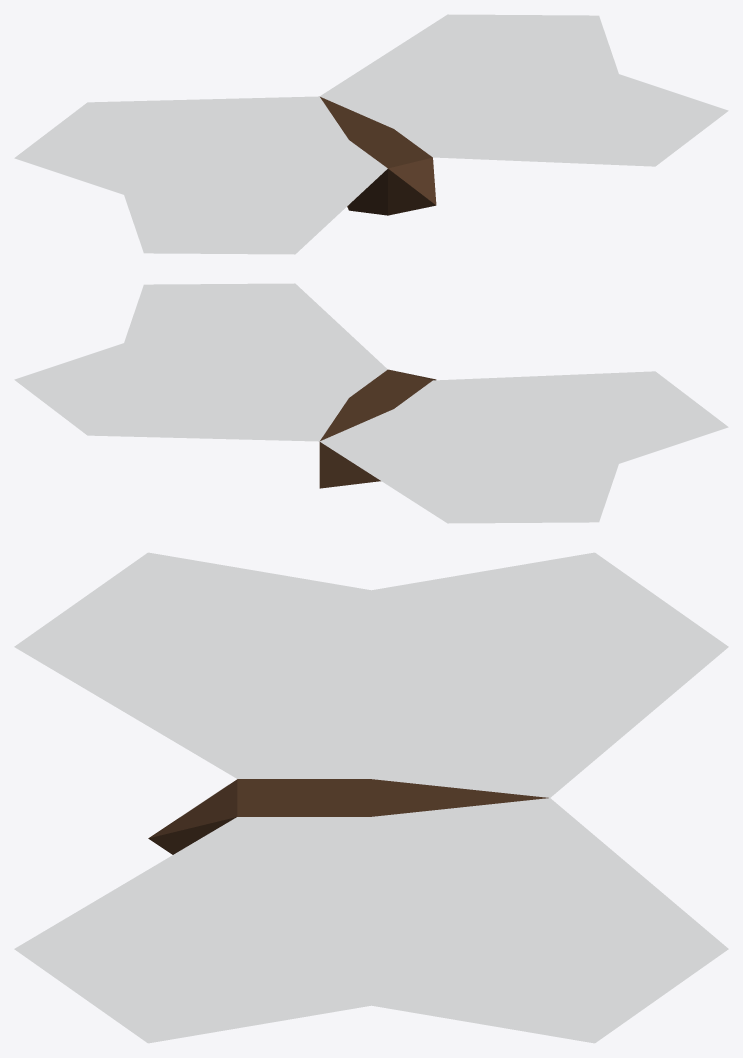
File: model_3022_npc.obj
The picture shows the model from 3 angles, top to bottom: view 1: azimuth 30°, elevation 25°; view 2: azimuth 150°, elevation 25°; view 3: azimuth 270°, elevation 25°; orthographic projection. The views are drawn at different scales.
Visible parts, largest first — view 1: 3022; view 2: 3022; view 3: 3022.
Boxes of the visible parts, x1=… form: 3022: x1=14, y1=14, x2=728, y2=254; 3022: x1=14, y1=283, x2=728, y2=523; 3022: x1=14, y1=552, x2=728, y2=1043.
Size of the model in its own units: 26 by 3 by 16.
